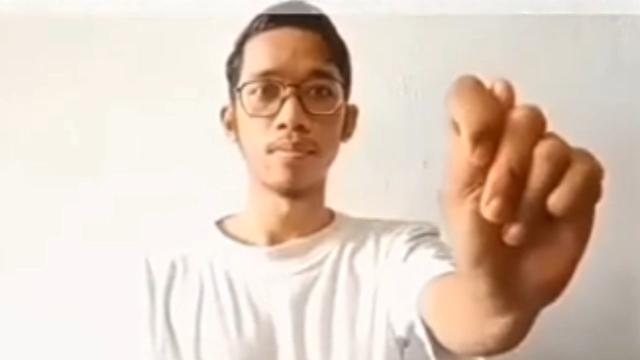M: (438, 72, 606, 298)
